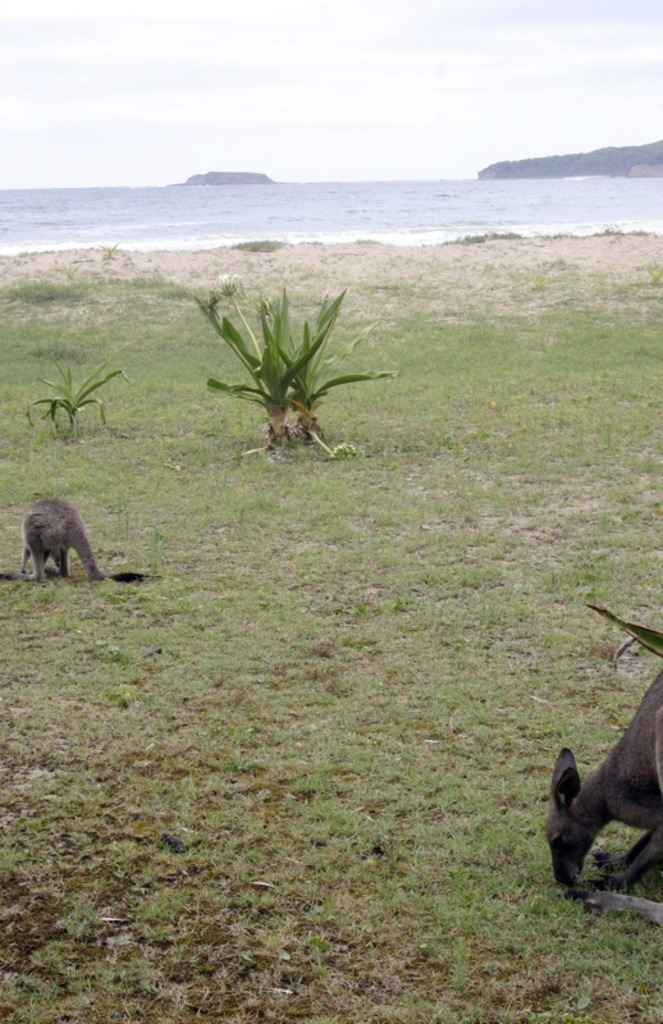kangaroo: (10, 494, 138, 591)
